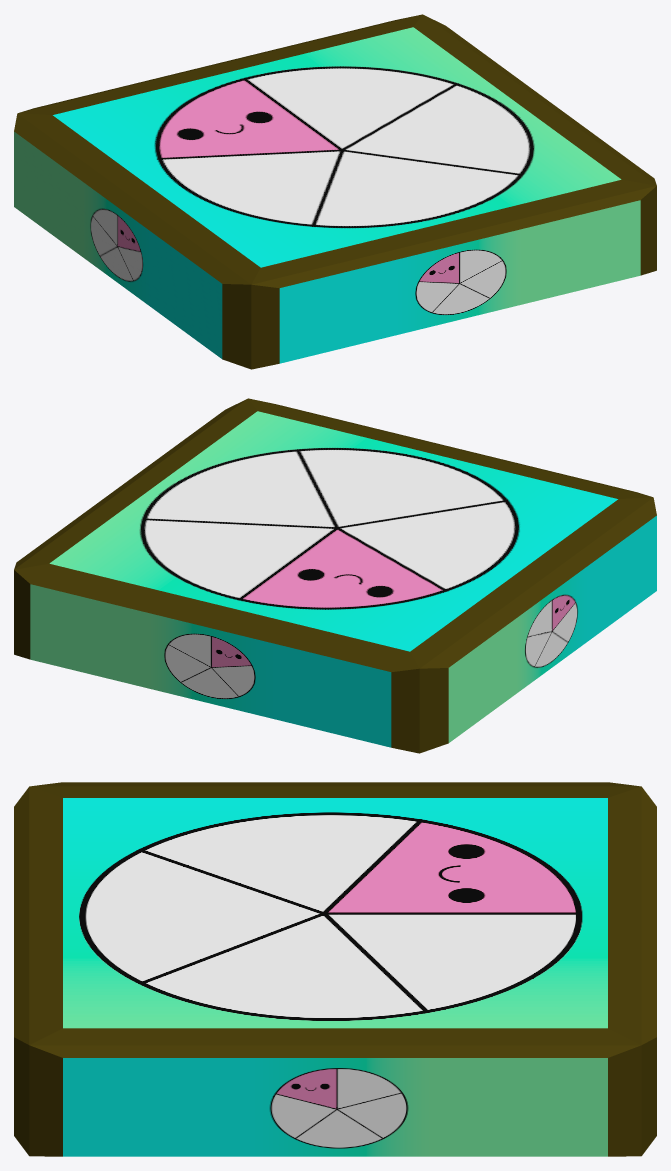
The model's file is Fracciones un quinto.fbx.
The picture shows the model from 3 angles, top to bottom: view 1: azimuth 30°, elevation 25°; view 2: azimuth 150°, elevation 25°; view 3: azimuth 270°, elevation 25°; orthographic projection. The views are drawn at different scales.
Parts seen in each view (by area): view 1: 1/5; view 2: 1/5; view 3: 1/5.
Part boxes in pixels (left/top/right/bottom): 1/5: left=14, top=14, right=656, bottom=369; 1/5: left=14, top=398, right=656, bottom=753; 1/5: left=14, top=782, right=656, bottom=1156.
Bounding box in the file's own units: 213 × 42 × 210.
Materials: 2 (1 with a texture image).
